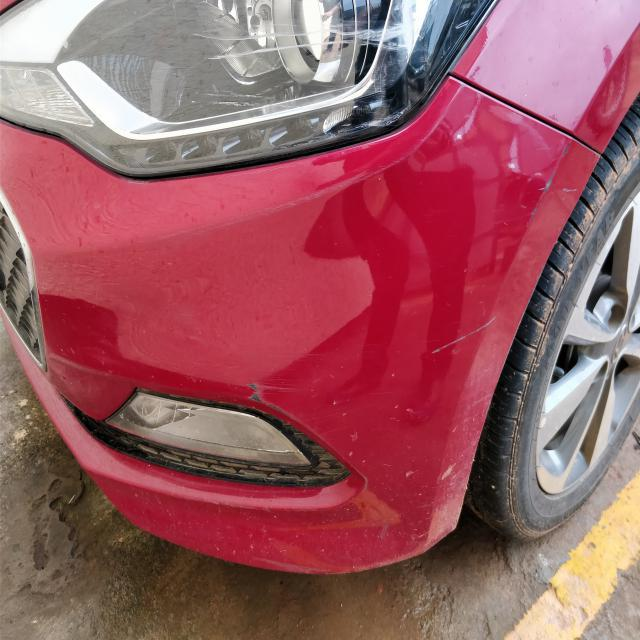front-bumper-dent: (42, 75, 594, 566)
